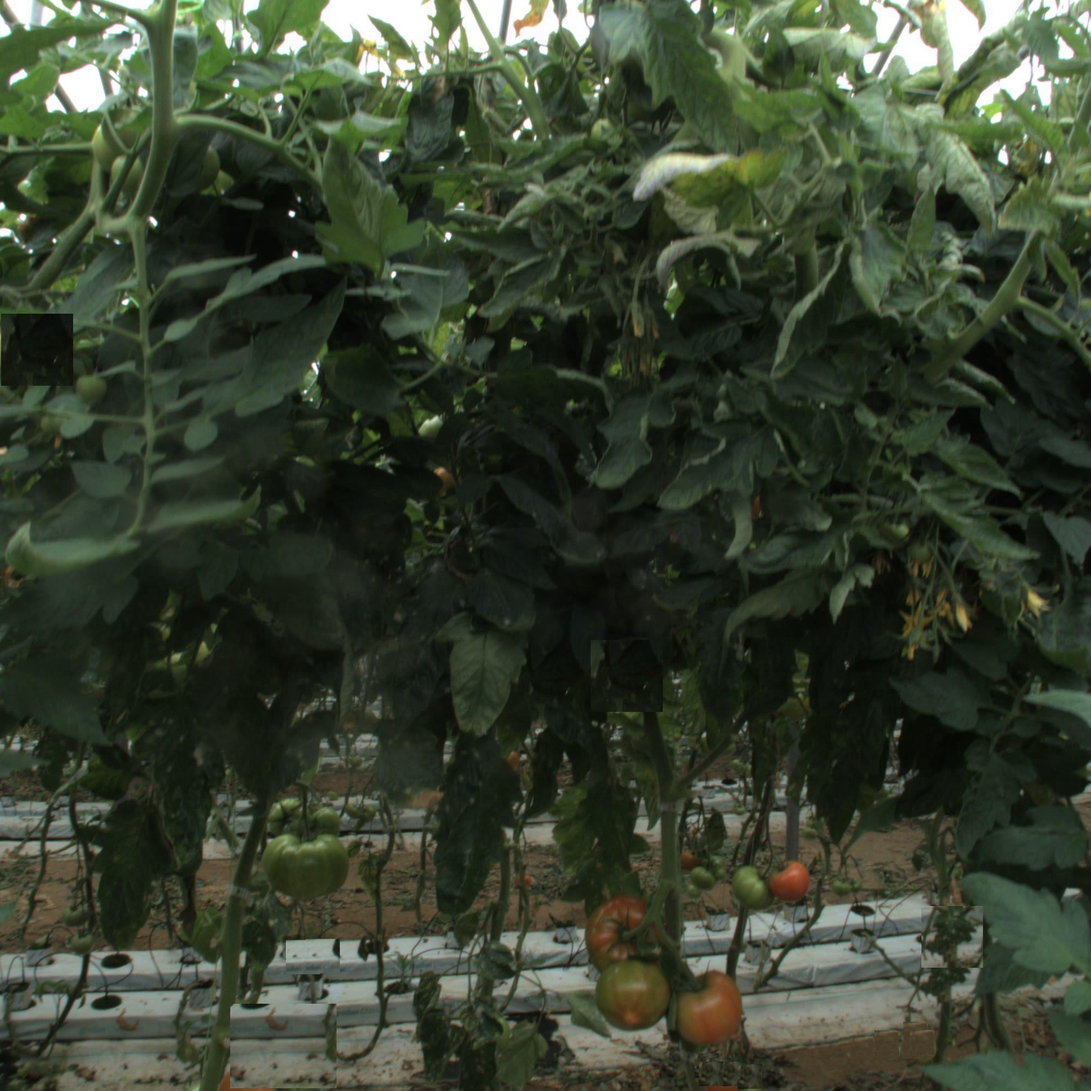['unripe', 'semi-ripe', 'fully-ripe']: (267, 819, 350, 902), (734, 859, 782, 907)
